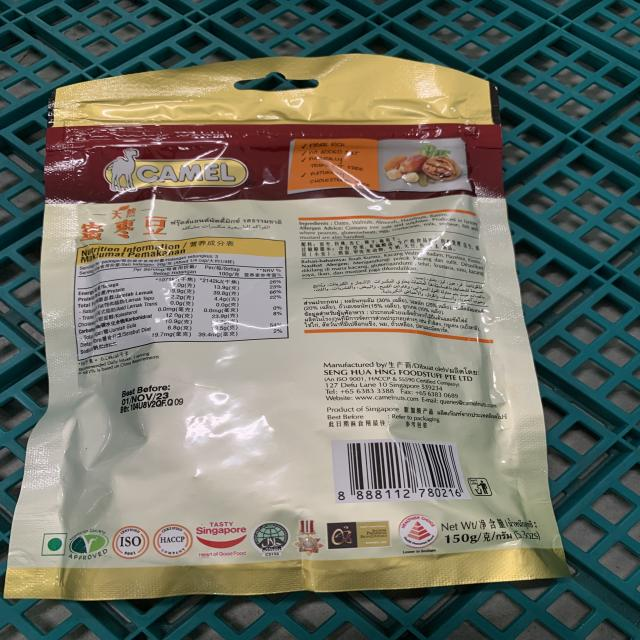object_name: (57, 81, 541, 583)
